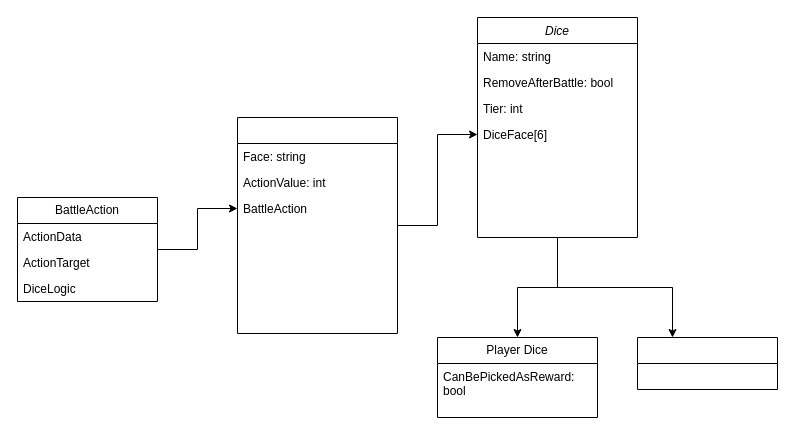
Some shapes in this 795 by 438 pixel diagram are drawn without their labels. Here are the shapes that lost their labels. From the top down, the box of each, then its label:
(236, 116, 398, 334): DiceFace
(636, 336, 778, 390): Enemy Dice
